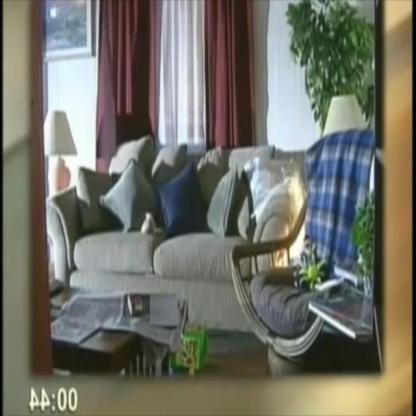Fire: (273, 169, 307, 270)
